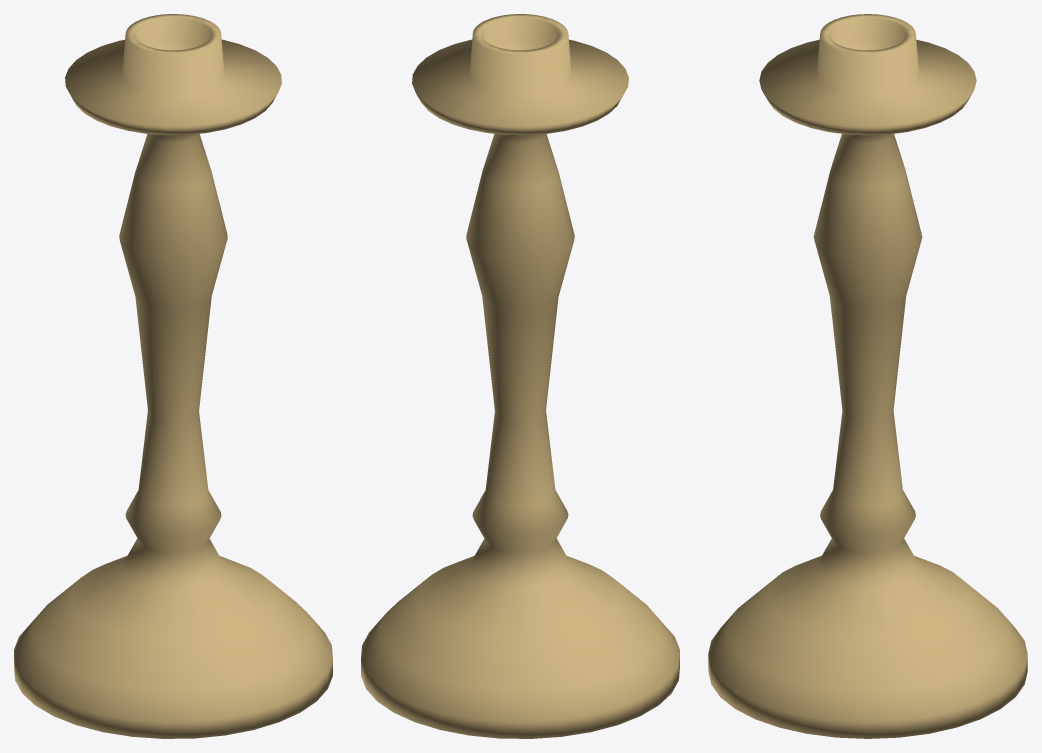
Rendered from fx_lk_candlestick.glb.
3 views of the same model, side by side, from view 1: azimuth 30°, elevation 25°; view 2: azimuth 150°, elevation 25°; view 3: azimuth 270°, elevation 25° (orthographic).
Parts seen in each view (by area): view 1: fx_lk_candlestick; view 2: fx_lk_candlestick; view 3: fx_lk_candlestick.
Part boxes in pixels (x1,y1,x2,y2): fx_lk_candlestick: (14,14,332,738); fx_lk_candlestick: (361,14,679,738); fx_lk_candlestick: (708,14,1027,738).
Size of the model in its own units: 0.1 by 0.22 by 0.1.
